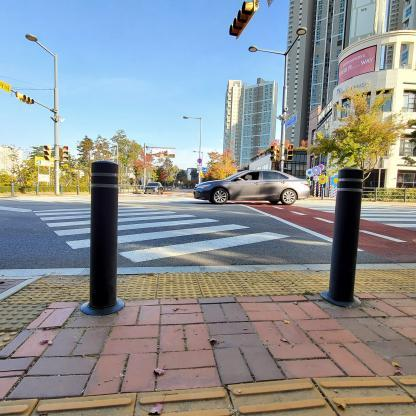podotacti: (0, 264, 415, 306), (0, 301, 56, 367)
